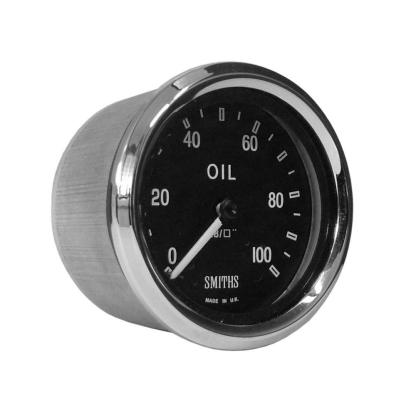needle: (169, 213, 228, 282)
